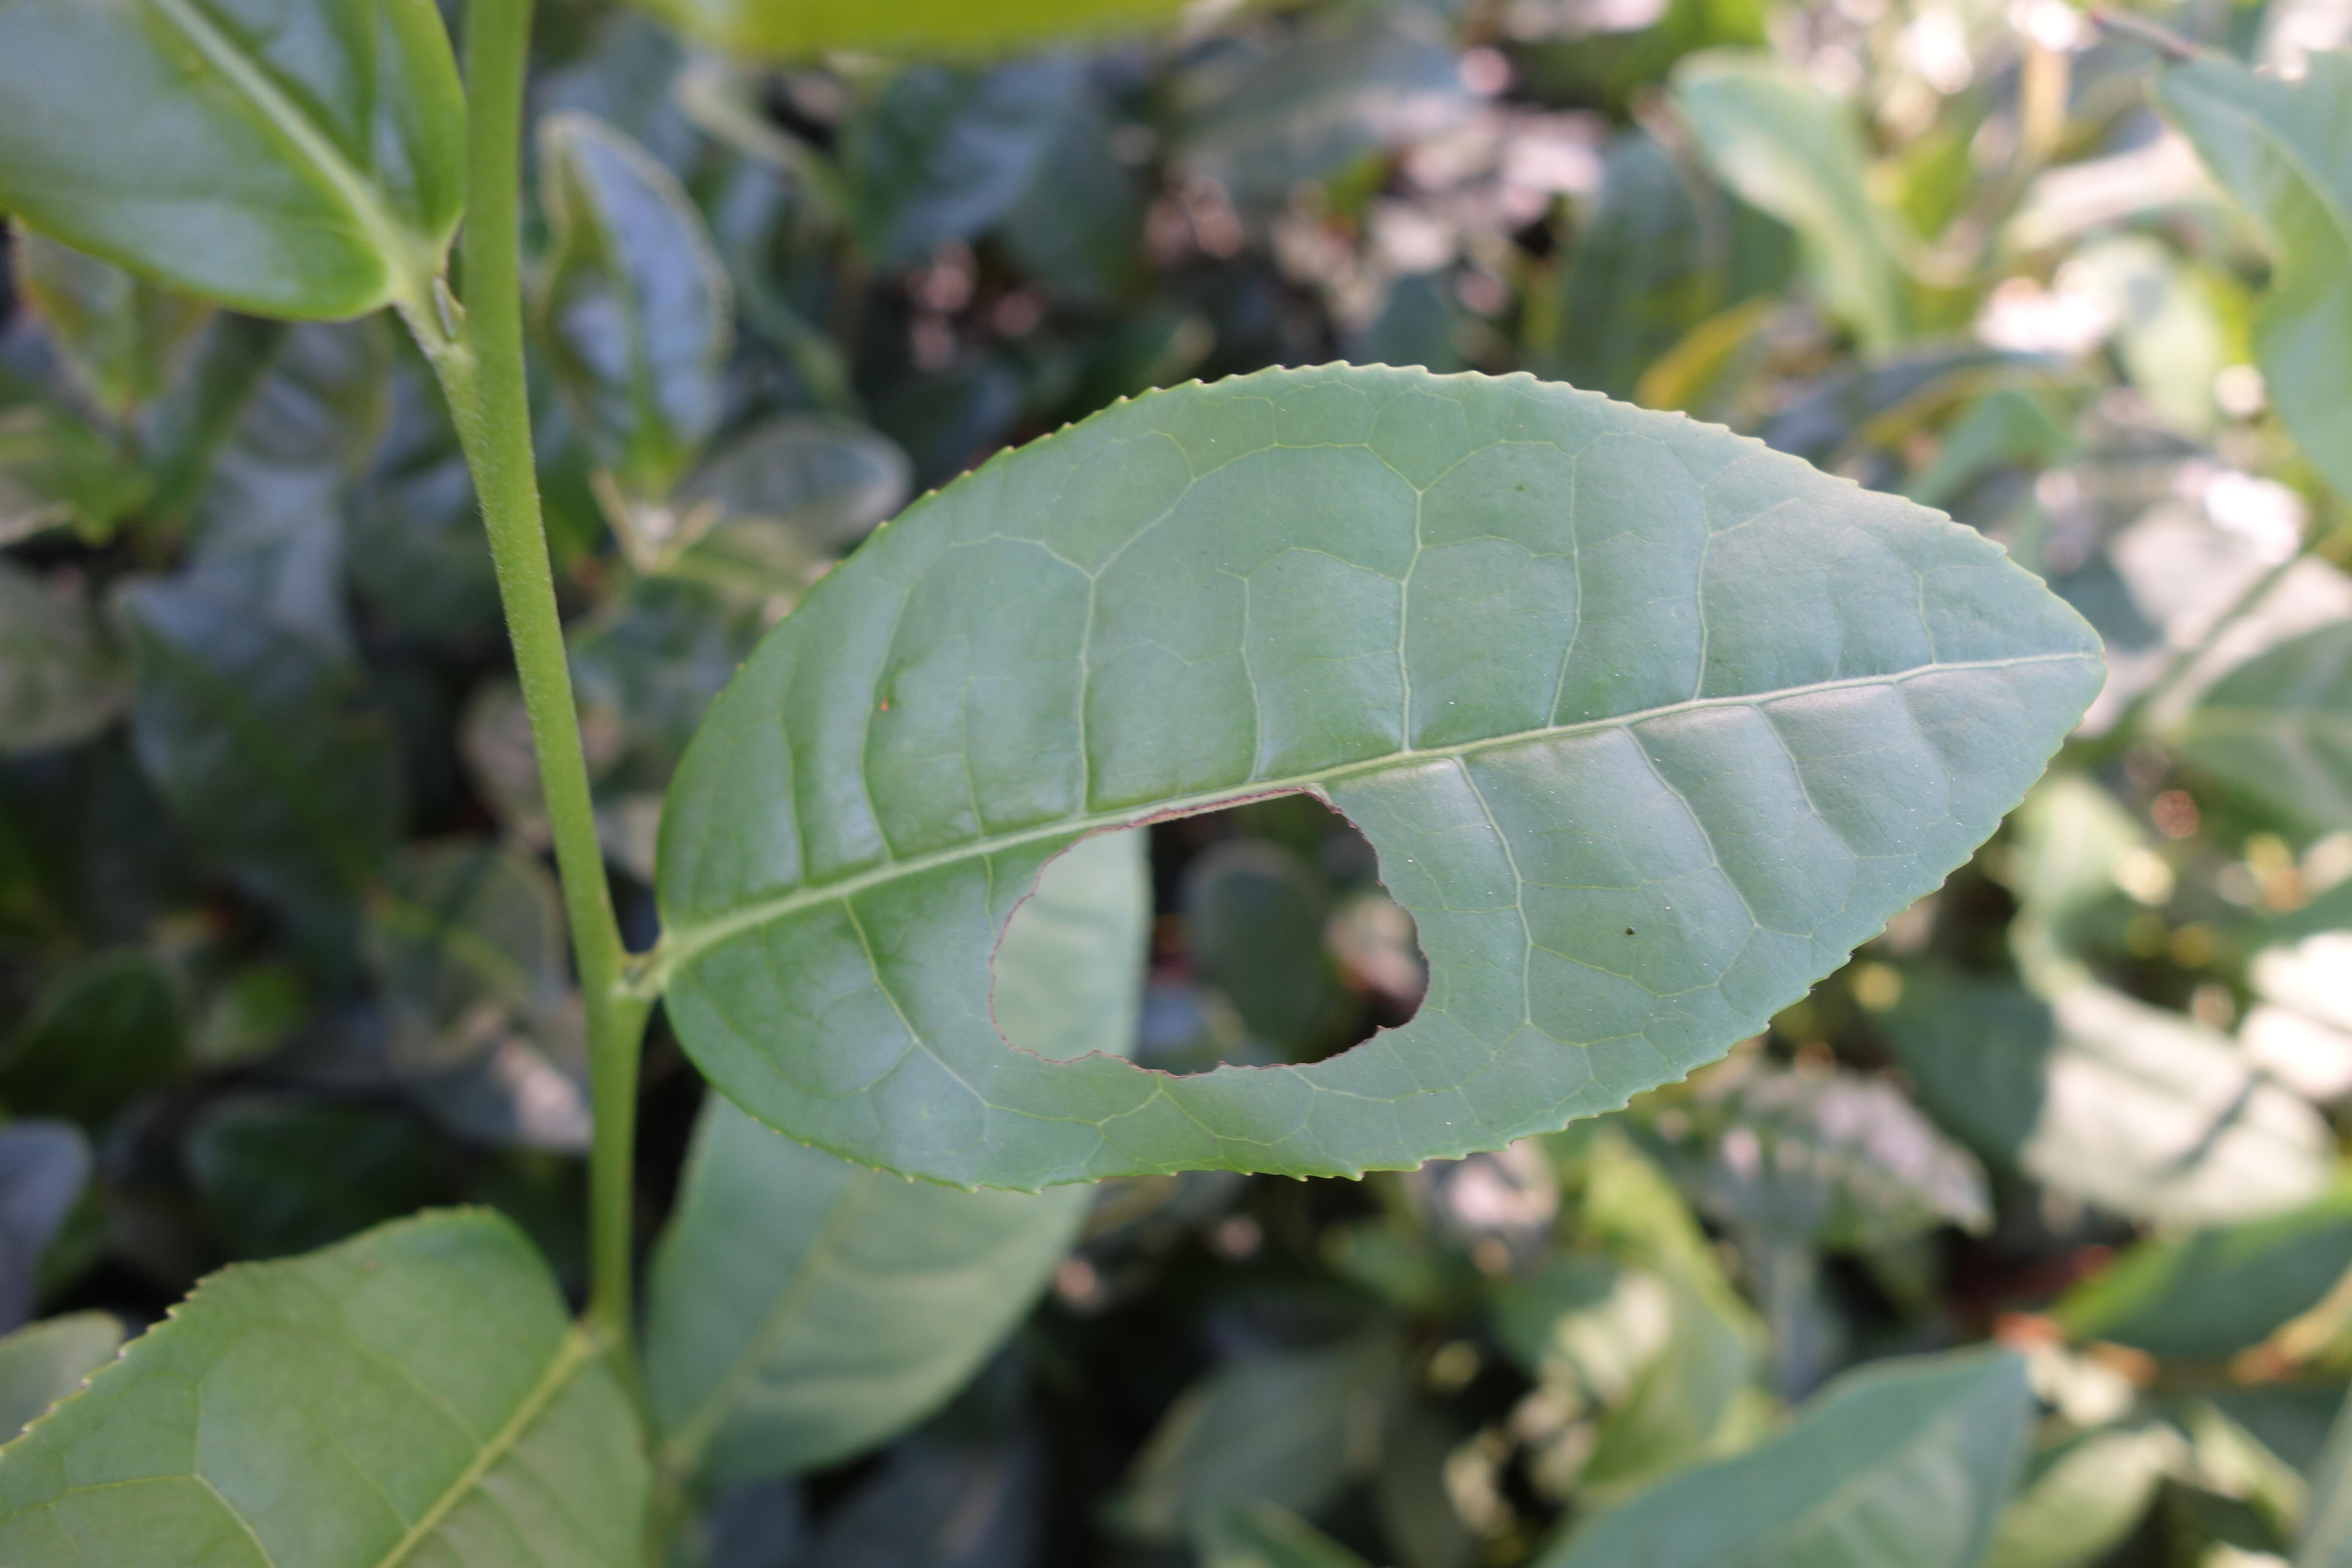chihuo_low: (660, 355, 2110, 1195)
